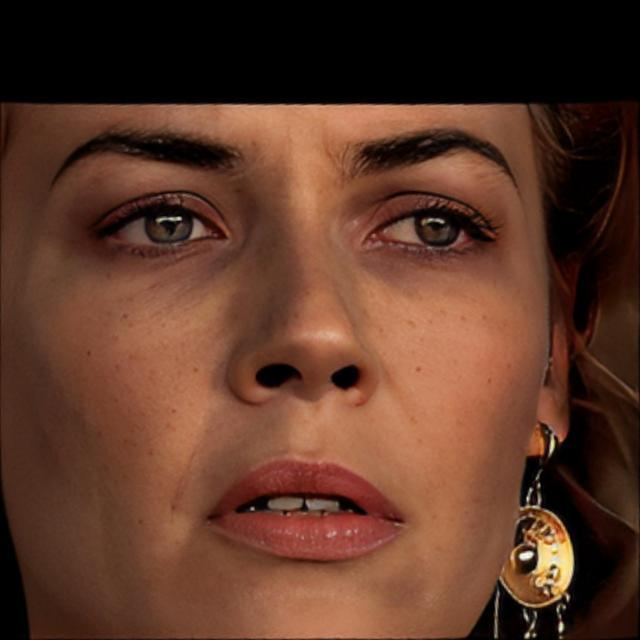disgust: (0, 104, 553, 640)
